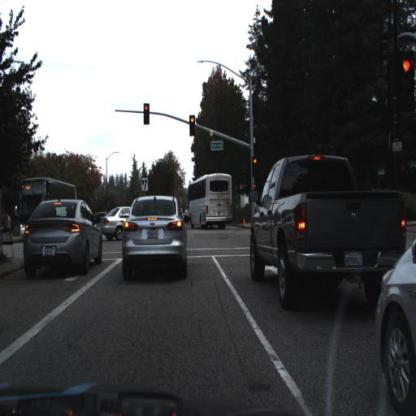car: (245, 153, 412, 311), (249, 148, 408, 309), (374, 232, 416, 416), (24, 200, 102, 276), (123, 195, 187, 281), (97, 205, 134, 241), (101, 207, 128, 239)
trafficLight-Red: (190, 113, 198, 139), (189, 116, 197, 135), (253, 154, 259, 177), (253, 156, 258, 179)
trafficLight-RedLeft: (144, 102, 149, 126)
truck: (20, 179, 81, 241), (190, 178, 234, 230), (21, 180, 76, 218)
